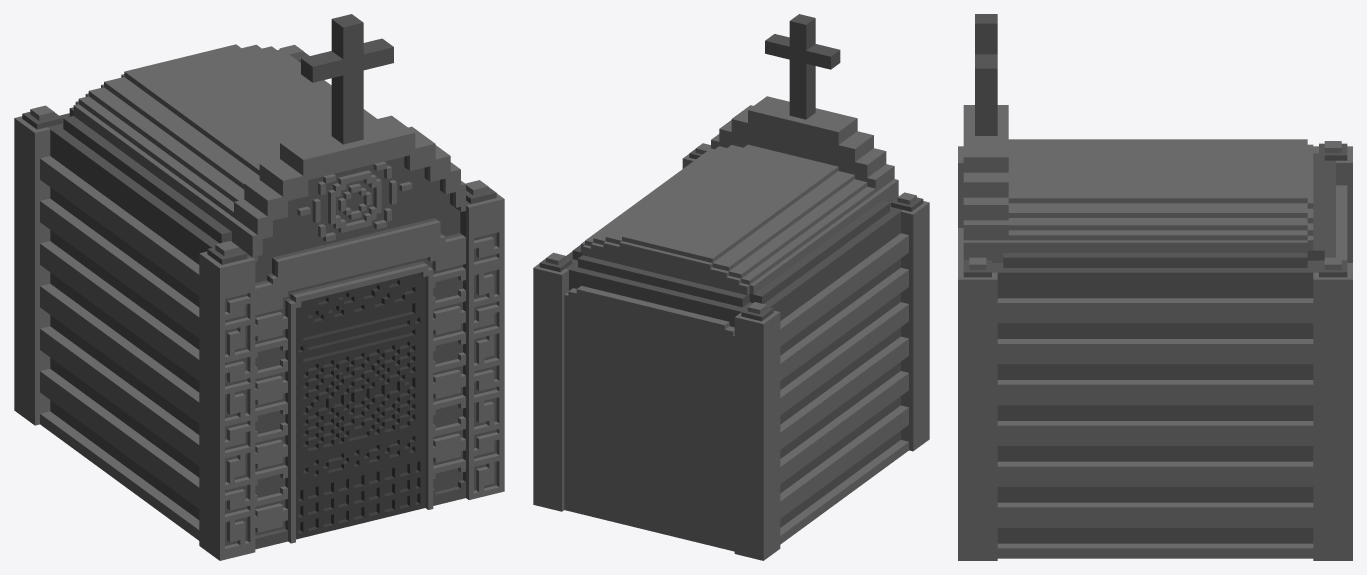
Rendered from Jazigo 01.obj.
3 views of the same model, side by side, from view 1: azimuth 30°, elevation 25°; view 2: azimuth 150°, elevation 25°; view 3: azimuth 270°, elevation 25° (orthographic). The views are drawn at different scales.
Bounding box in the file's own units: 5.6 × 9.3 × 7.
1 material, 1 textured.
